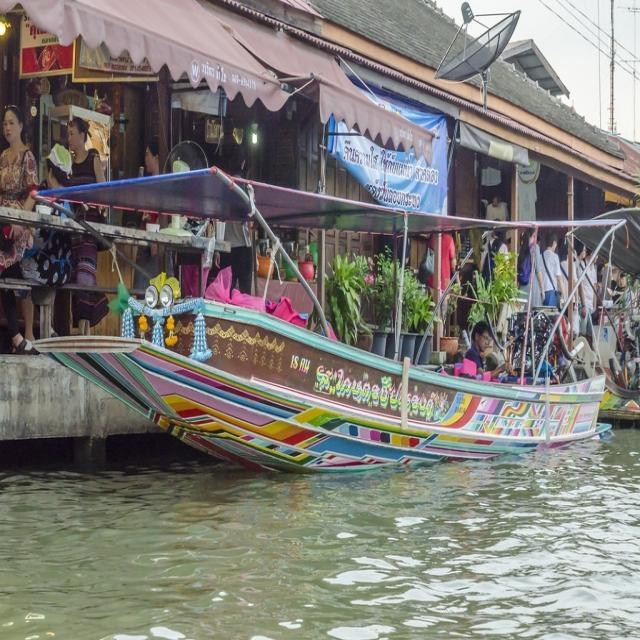boat: (23, 308, 622, 486)
